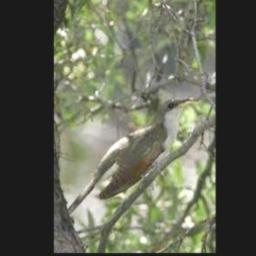Cuckoo: (67, 98, 197, 214)
